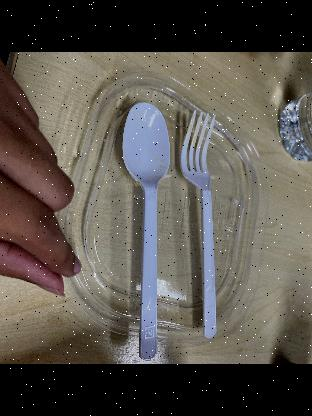Others: (112, 102, 171, 364), (180, 109, 224, 340)
